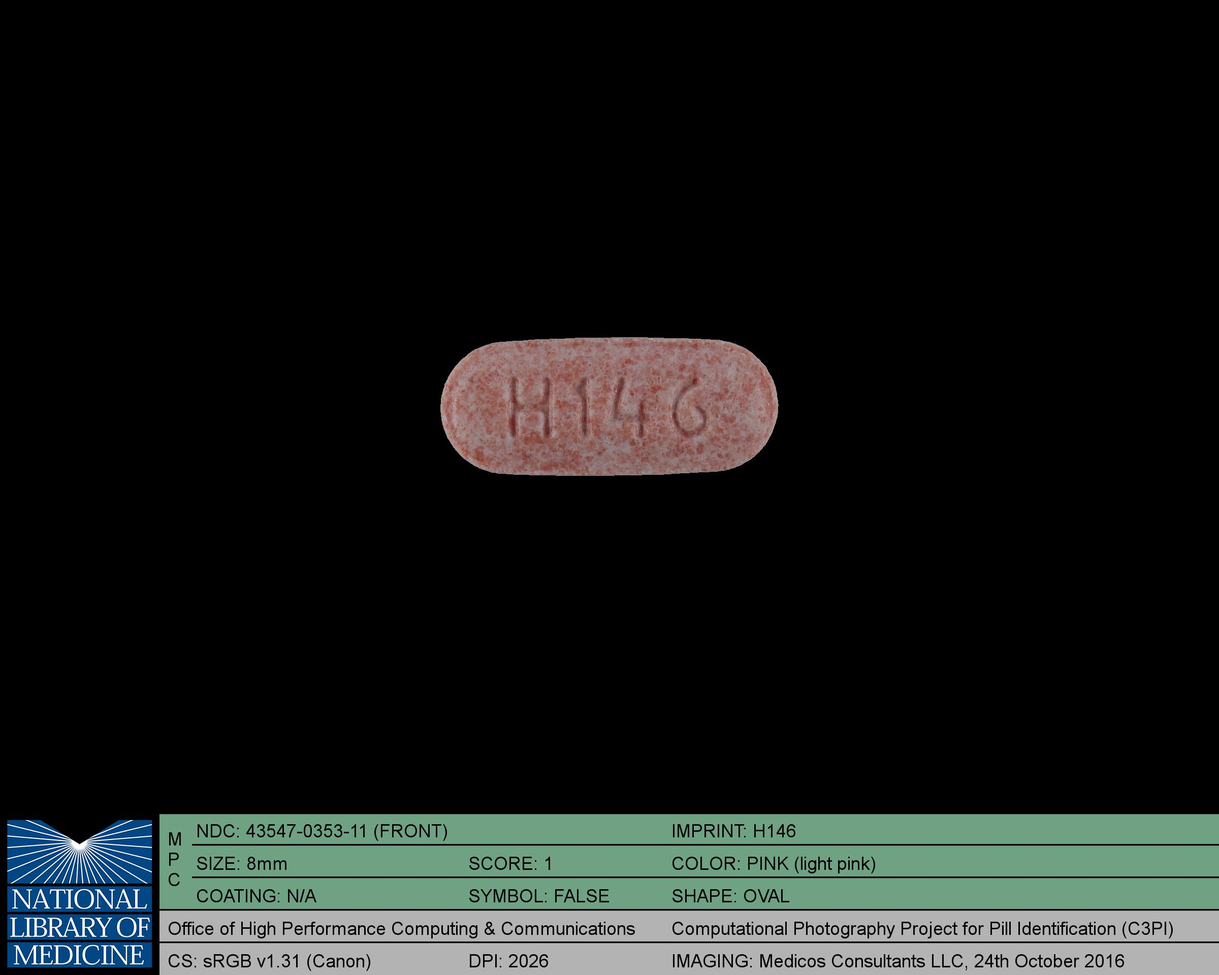Pill: (428, 325, 789, 486)
